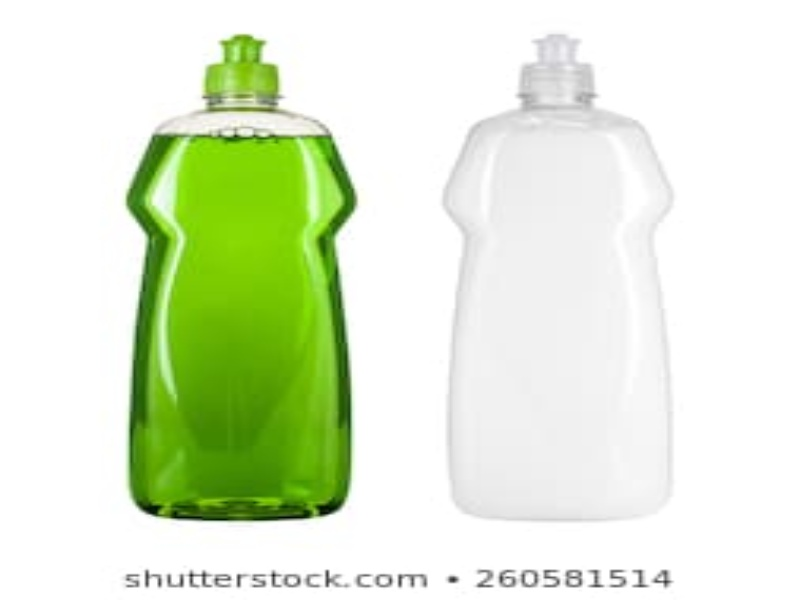detergent-bottle: (123, 32, 359, 526), (441, 33, 677, 527)
